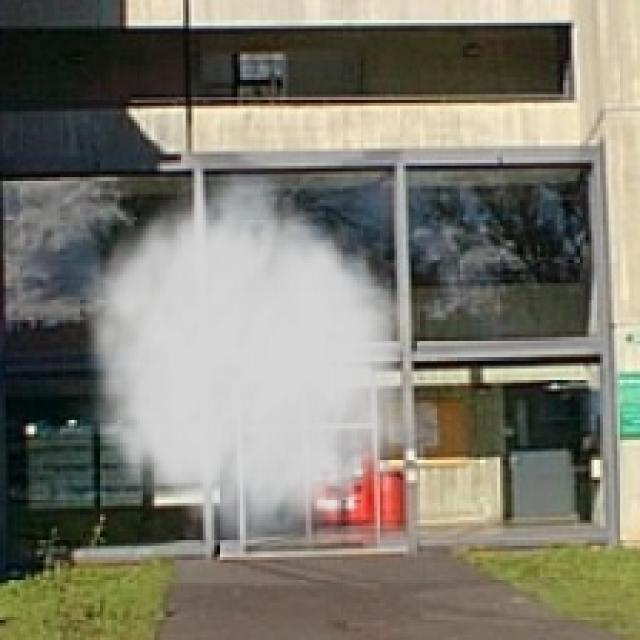smoke: (66, 160, 420, 566)
